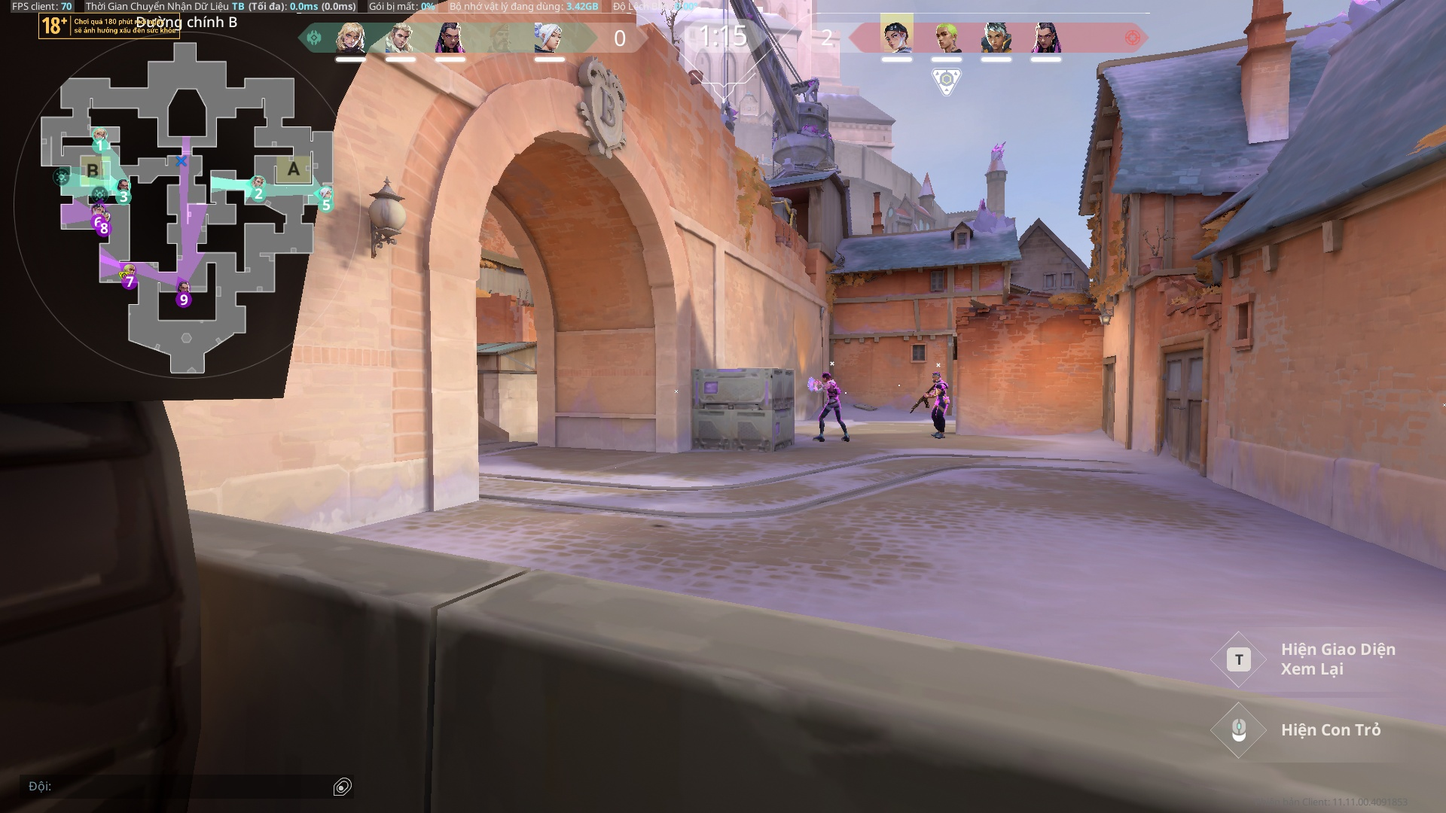body: (822, 383, 848, 403), (932, 379, 949, 401)
head: (820, 371, 834, 383), (932, 371, 939, 379)
